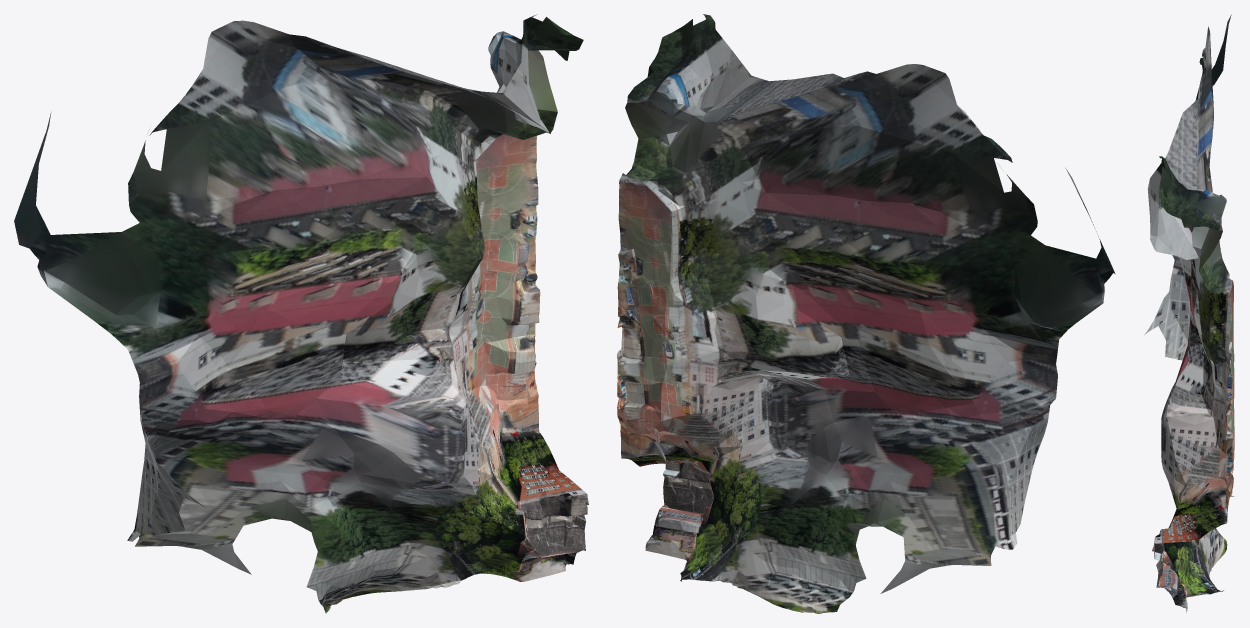
File: Tile_+000_+003.glb
3 renders of one model, left to right at view 1: azimuth 30°, elevation 25°; view 2: azimuth 150°, elevation 25°; view 3: azimuth 270°, elevation 25°, orthographic. The views are drawn at different scales.
Visible parts, largest first — view 1: Node; view 2: Node; view 3: Node.
Part boxes in pixels (<box>): Node: <box>14,14,588,613</box>; Node: <box>617,14,1115,613</box>; Node: <box>1145,14,1234,612</box>.
Bounding box in the file's own units: 156 × 173 × 30.75.
Materials: 1 (1 with a texture image).
